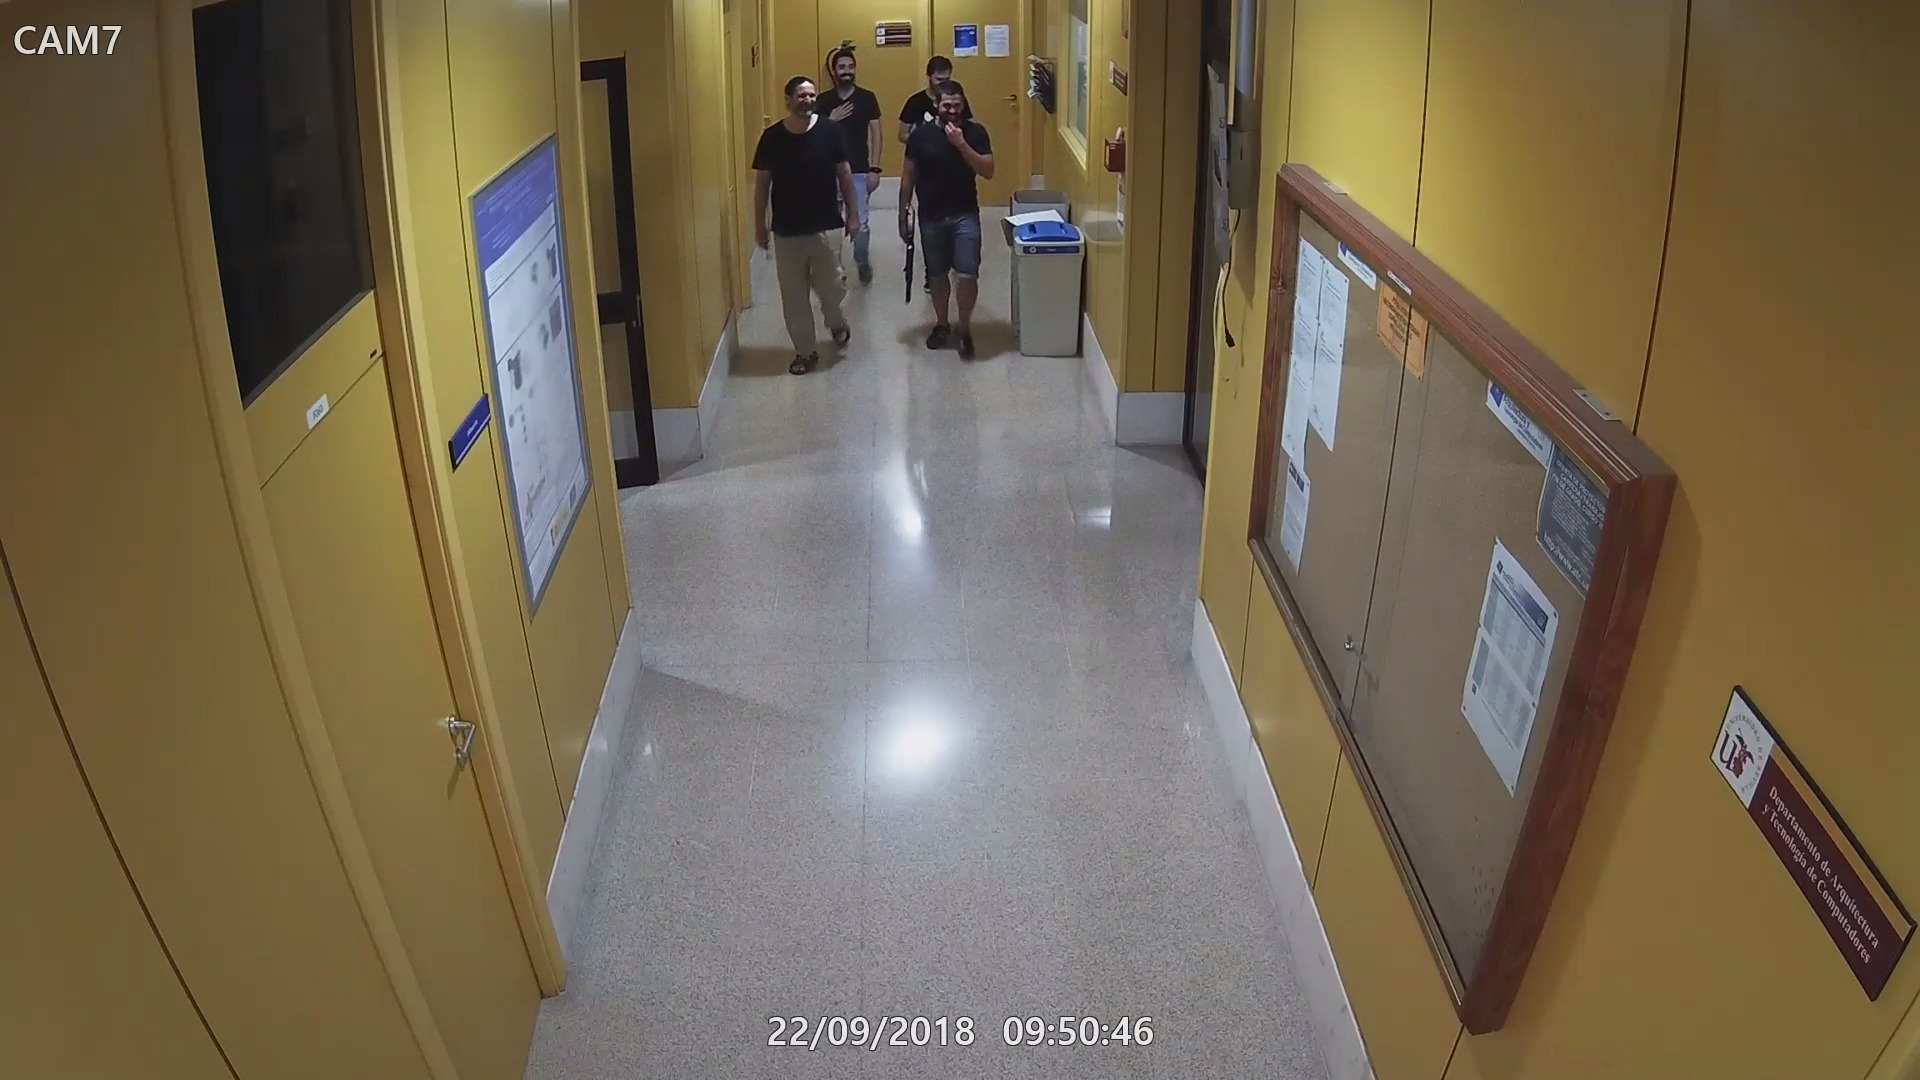Short_rifle: (898, 198, 918, 305)
